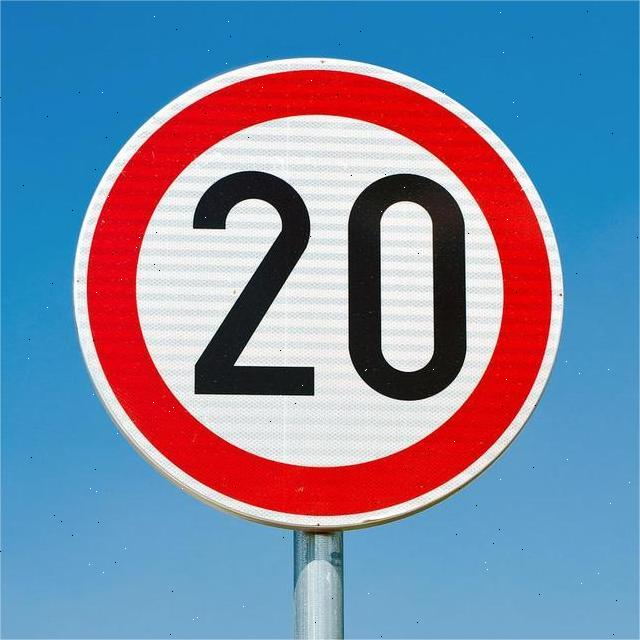speed limit 20: (69, 58, 563, 530)
